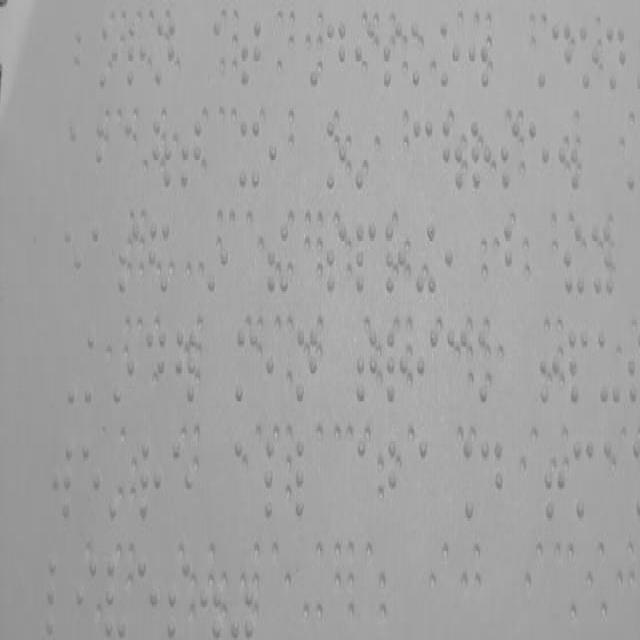braiile: (230, 432, 260, 528), (170, 431, 198, 529), (41, 546, 70, 640), (82, 321, 110, 417), (262, 427, 288, 529), (586, 218, 616, 306), (478, 433, 506, 527), (164, 551, 193, 640), (58, 215, 84, 314), (138, 432, 164, 528), (292, 322, 320, 411), (500, 218, 528, 306), (49, 431, 75, 525), (294, 431, 320, 525), (475, 321, 503, 408), (354, 436, 380, 528), (572, 434, 598, 526), (103, 555, 131, 640), (467, 108, 493, 199), (79, 429, 103, 527), (177, 111, 203, 200), (527, 118, 553, 206), (236, 115, 264, 196), (142, 323, 168, 410), (354, 321, 380, 408), (416, 431, 440, 525), (382, 329, 410, 409), (414, 326, 441, 408), (500, 116, 524, 208), (94, 114, 120, 198), (446, 321, 470, 412), (74, 548, 98, 639), (437, 9, 461, 98), (324, 111, 348, 200), (91, 220, 115, 309), (238, 12, 264, 94), (382, 217, 408, 299), (384, 436, 408, 524), (604, 19, 628, 106), (596, 323, 620, 410), (136, 552, 160, 639), (118, 218, 144, 298), (325, 216, 351, 296), (565, 326, 591, 406), (68, 108, 92, 194), (410, 112, 434, 198), (154, 11, 178, 96), (234, 322, 258, 407), (578, 16, 602, 100), (355, 216, 379, 300), (354, 17, 378, 99), (380, 19, 404, 101), (324, 18, 348, 98), (550, 18, 574, 98), (124, 111, 148, 191), (124, 16, 148, 94), (212, 15, 236, 91), (97, 20, 119, 96), (409, 13, 429, 89), (71, 21, 93, 90)
